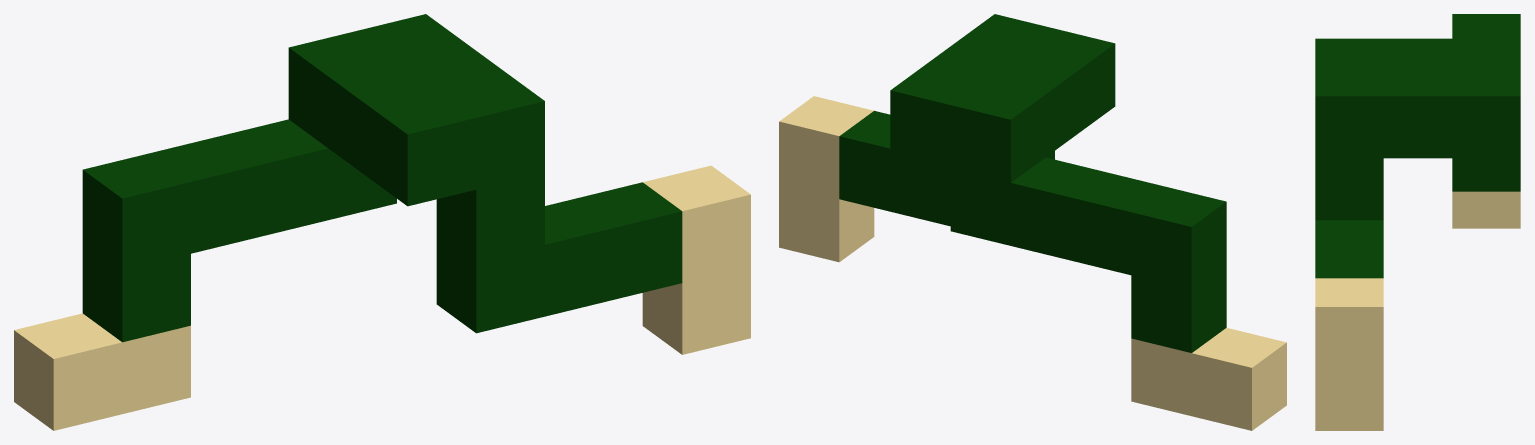
Rendered from thymea-1-torso_walk.obj.
3 renders of one model, left to right at view 1: azimuth 30°, elevation 25°; view 2: azimuth 150°, elevation 25°; view 3: azimuth 270°, elevation 25°, orthographic. The views are drawn at different scales.
Visible parts, largest first — view 1: torso_walk; view 2: torso_walk; view 3: torso_walk.
Part boxes in pixels (x1,y1,x2,y2): torso_walk: [14, 14, 750, 430]; torso_walk: [779, 14, 1286, 430]; torso_walk: [1315, 14, 1520, 430].
Bounding box in the file's own units: 0.9 × 0.4 × 0.3.
1 material, 1 textured.
